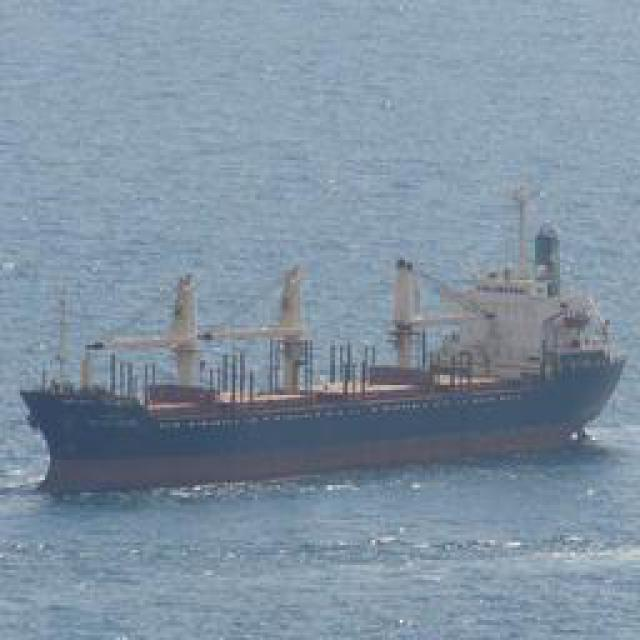Ship: (31, 239, 616, 482)
